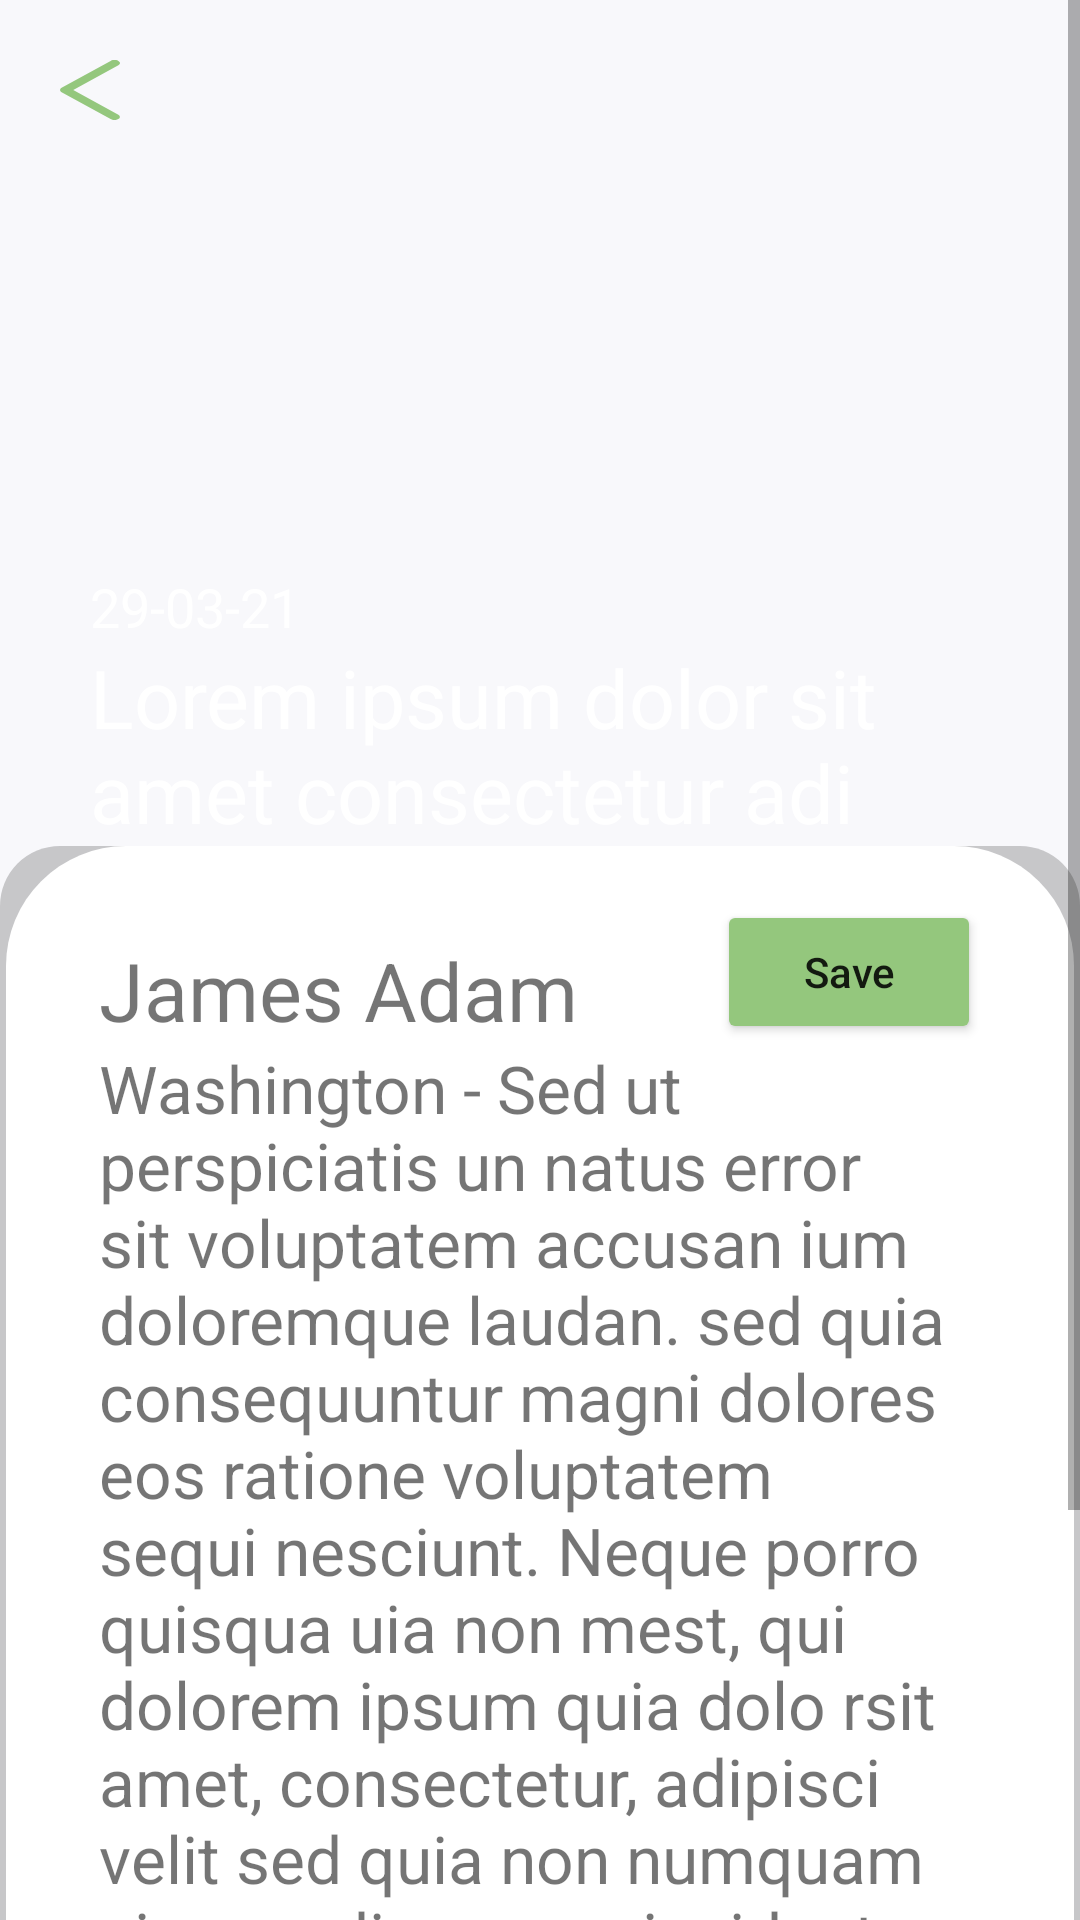

Screen size 1080px x 1920px. Icon name, then its box in pixels as (x1, y1, x2, y2):
back: (60, 60, 120, 120)
